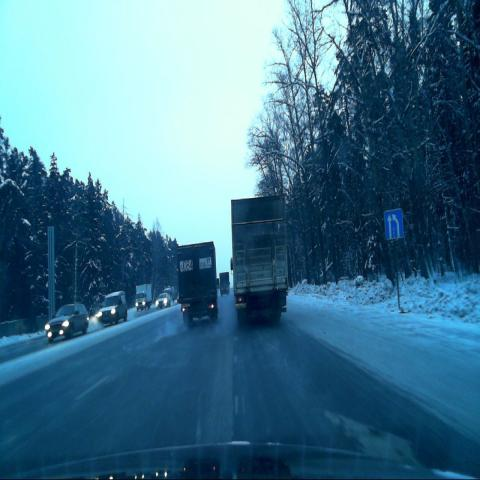5_15_5: (384, 208, 404, 242)
